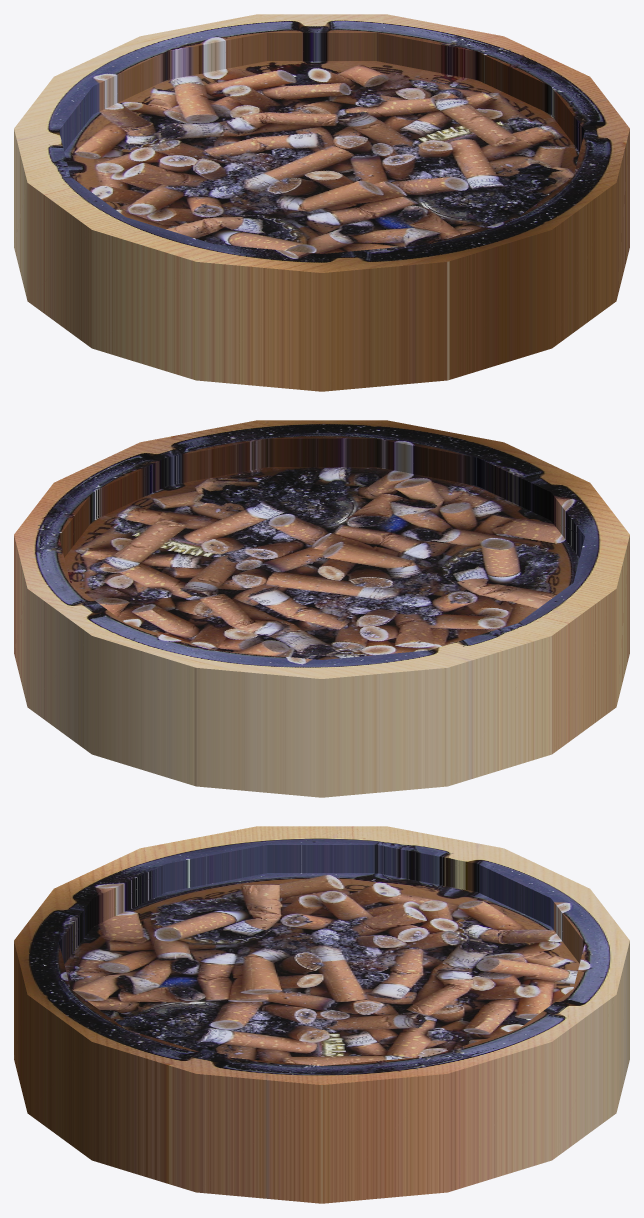
The model's file is ashtray 1.FBX.
3 renders of one model, top to bottom at view 1: azimuth 30°, elevation 25°; view 2: azimuth 150°, elevation 25°; view 3: azimuth 270°, elevation 25°, orthographic.
Parts seen in each view (by area): view 1: ashtray; view 2: ashtray; view 3: ashtray.
Part boxes in pixels (<box>): ashtray: <box>14,14,629,391</box>; ashtray: <box>14,420,629,797</box>; ashtray: <box>14,826,629,1203</box>.
Size of the model in its own units: 13.85 by 2.96 by 13.92.
Materials: 1 (1 with a texture image).
